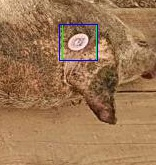text: (62, 24, 96, 60)
